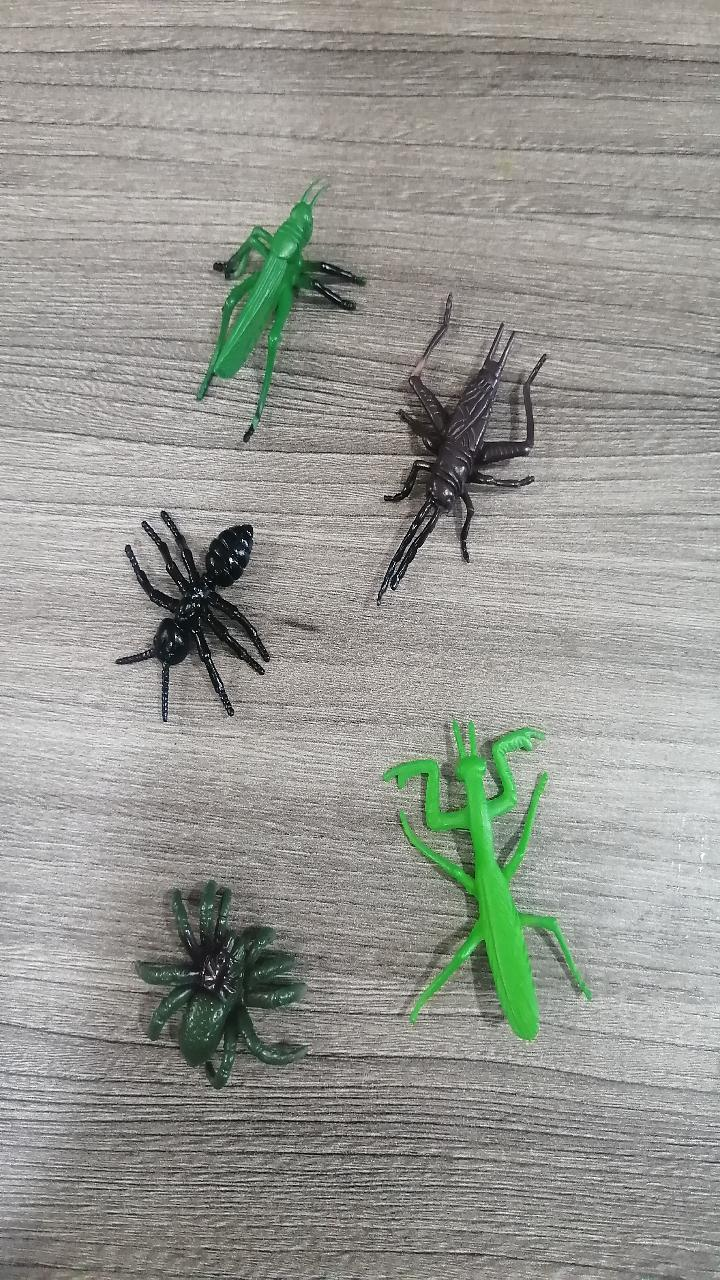intruso: (340, 683, 609, 1080), (354, 255, 586, 635), (100, 843, 352, 1132), (155, 154, 366, 451), (83, 463, 292, 739)
